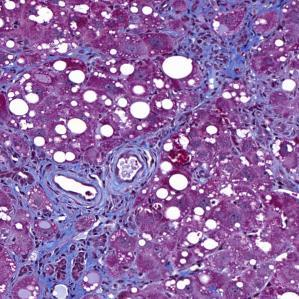fibrosis: (169, 8, 275, 105), (18, 152, 143, 229), (37, 244, 136, 296)
